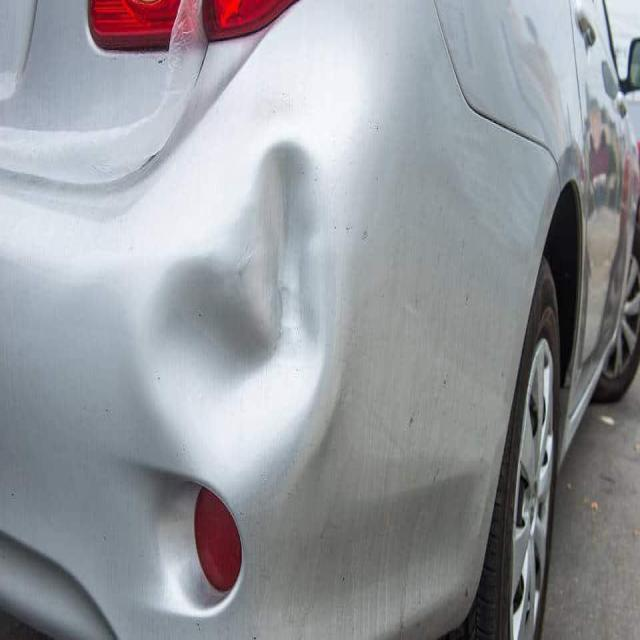dent: (124, 115, 336, 494)
